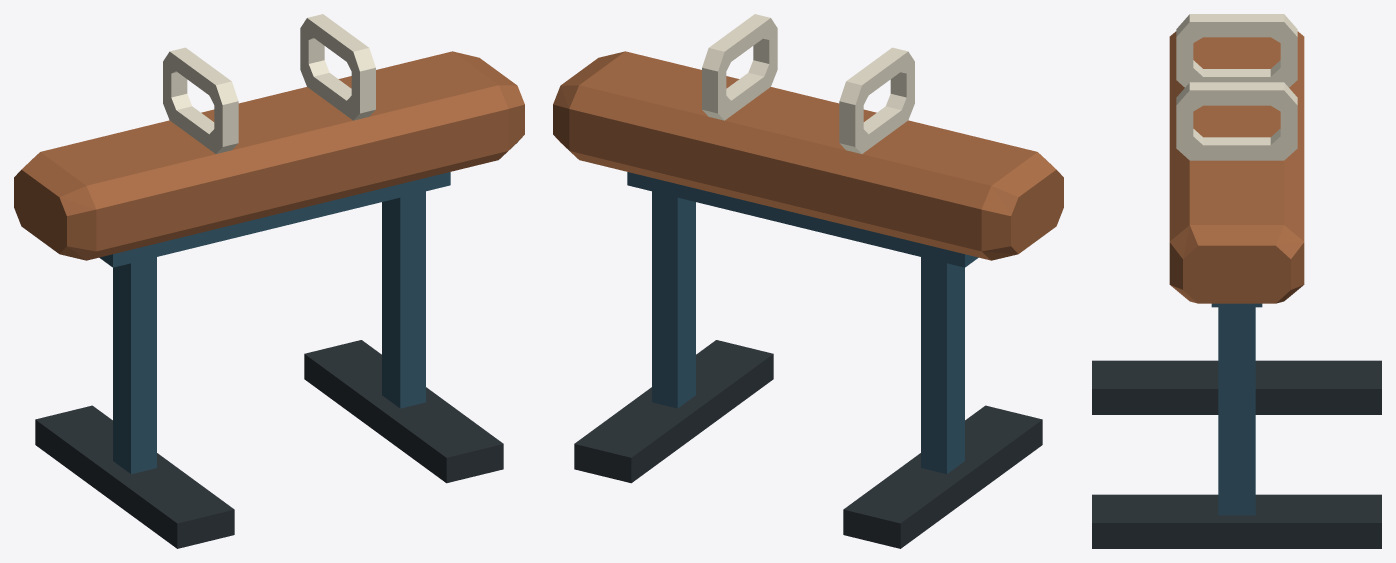
3 renders of one model, left to right at view 1: azimuth 30°, elevation 25°; view 2: azimuth 150°, elevation 25°; view 3: azimuth 270°, elevation 25°, orthographic.
Visible parts, largest first — view 1: WholeChamferedPaddedHorseBody, BroadTransverseGroundFoot_0, BroadTransverseGroundFoot_1, FullSupportLeg_0, FullSupportLeg_1, ContinuousOpenPommel_1, ContinuousOpenPommel_0, FullUnderbodyBearingRail; view 2: WholeChamferedPaddedHorseBody, BroadTransverseGroundFoot_0, BroadTransverseGroundFoot_1, FullSupportLeg_0, FullSupportLeg_1, ContinuousOpenPommel_1, ContinuousOpenPommel_0, FullUnderbodyBearingRail; view 3: WholeChamferedPaddedHorseBody, BroadTransverseGroundFoot_1, BroadTransverseGroundFoot_0, FullSupportLeg_1, ContinuousOpenPommel_1, ContinuousOpenPommel_0.
Part boxes in pixels (bbox=[...]): WholeChamferedPaddedHorseBody: bbox=[14, 51, 524, 260]; BroadTransverseGroundFoot_0: bbox=[35, 405, 234, 548]; BroadTransverseGroundFoot_1: bbox=[304, 340, 503, 483]; FullSupportLeg_0: bbox=[113, 257, 156, 474]; FullSupportLeg_1: bbox=[382, 191, 425, 408]; ContinuousOpenPommel_1: bbox=[300, 14, 375, 120]; ContinuousOpenPommel_0: bbox=[163, 47, 238, 153]; FullUnderbodyBearingRail: bbox=[99, 172, 450, 267]; WholeChamferedPaddedHorseBody: bbox=[553, 51, 1063, 260]; BroadTransverseGroundFoot_0: bbox=[843, 405, 1042, 548]; BroadTransverseGroundFoot_1: bbox=[574, 340, 773, 483]; FullSupportLeg_0: bbox=[921, 257, 964, 474]; FullSupportLeg_1: bbox=[652, 191, 695, 408]; ContinuousOpenPommel_1: bbox=[702, 14, 777, 120]; ContinuousOpenPommel_0: bbox=[839, 47, 914, 153]; FullUnderbodyBearingRail: bbox=[627, 172, 978, 267]; WholeChamferedPaddedHorseBody: bbox=[1169, 31, 1304, 303]; BroadTransverseGroundFoot_1: bbox=[1092, 494, 1381, 548]; BroadTransverseGroundFoot_0: bbox=[1092, 360, 1381, 414]; FullSupportLeg_1: bbox=[1218, 307, 1255, 515]; ContinuousOpenPommel_1: bbox=[1176, 82, 1297, 160]; ContinuousOpenPommel_0: bbox=[1176, 14, 1297, 87].
Bounding box in the file's own units: 1.6 × 1.36 × 0.86.
